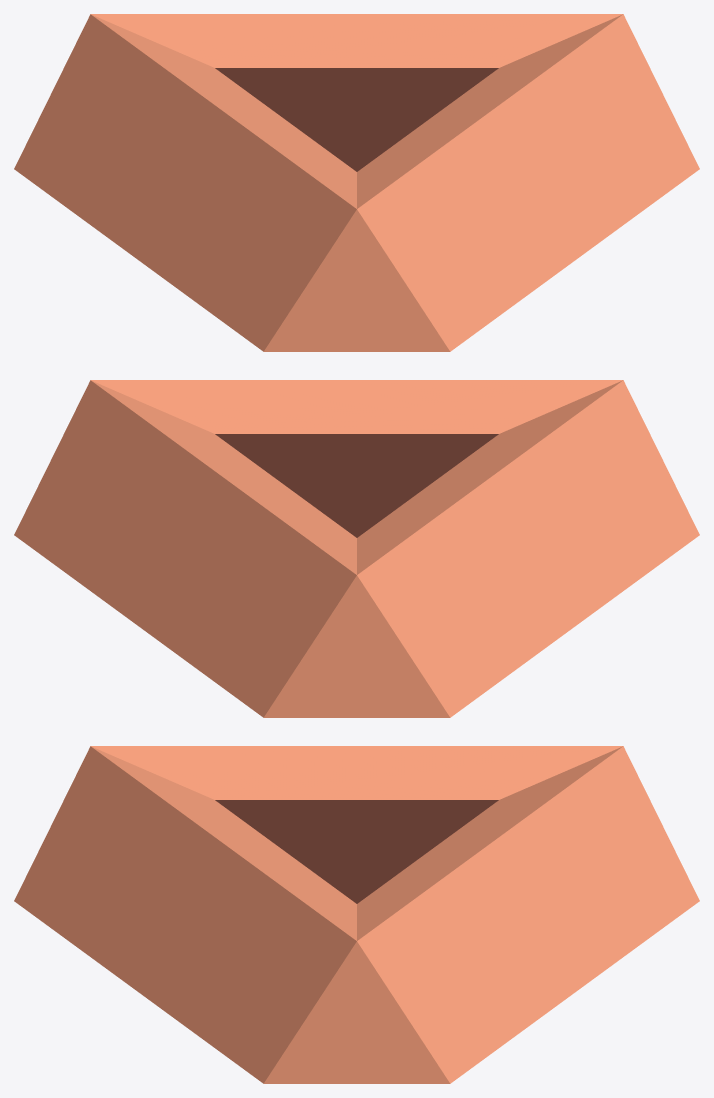
File: Echpochmak.fbx
3 views of the same model, one above another, from view 1: azimuth 30°, elevation 25°; view 2: azimuth 150°, elevation 25°; view 3: azimuth 270°, elevation 25° (orthographic).
Parts seen in each view (by area): view 1: Echpochmak; view 2: Echpochmak; view 3: Echpochmak.
Part boxes in pixels (x1=…): Echpochmak: x1=14, y1=14, x2=699, y2=351; Echpochmak: x1=14, y1=380, x2=699, y2=717; Echpochmak: x1=14, y1=746, x2=699, y2=1083.
Bounding box in the file's own units: 55.1 × 13.11 × 63.63.
